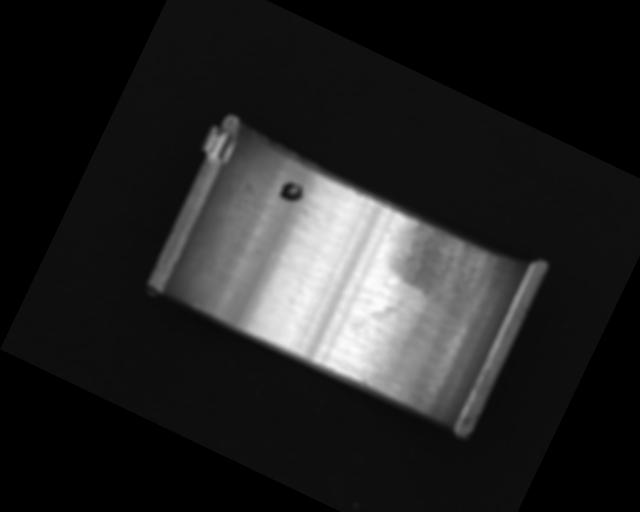blot: (276, 177, 307, 206)
bruise: (358, 377, 370, 389)
scratch: (372, 210, 501, 319)
